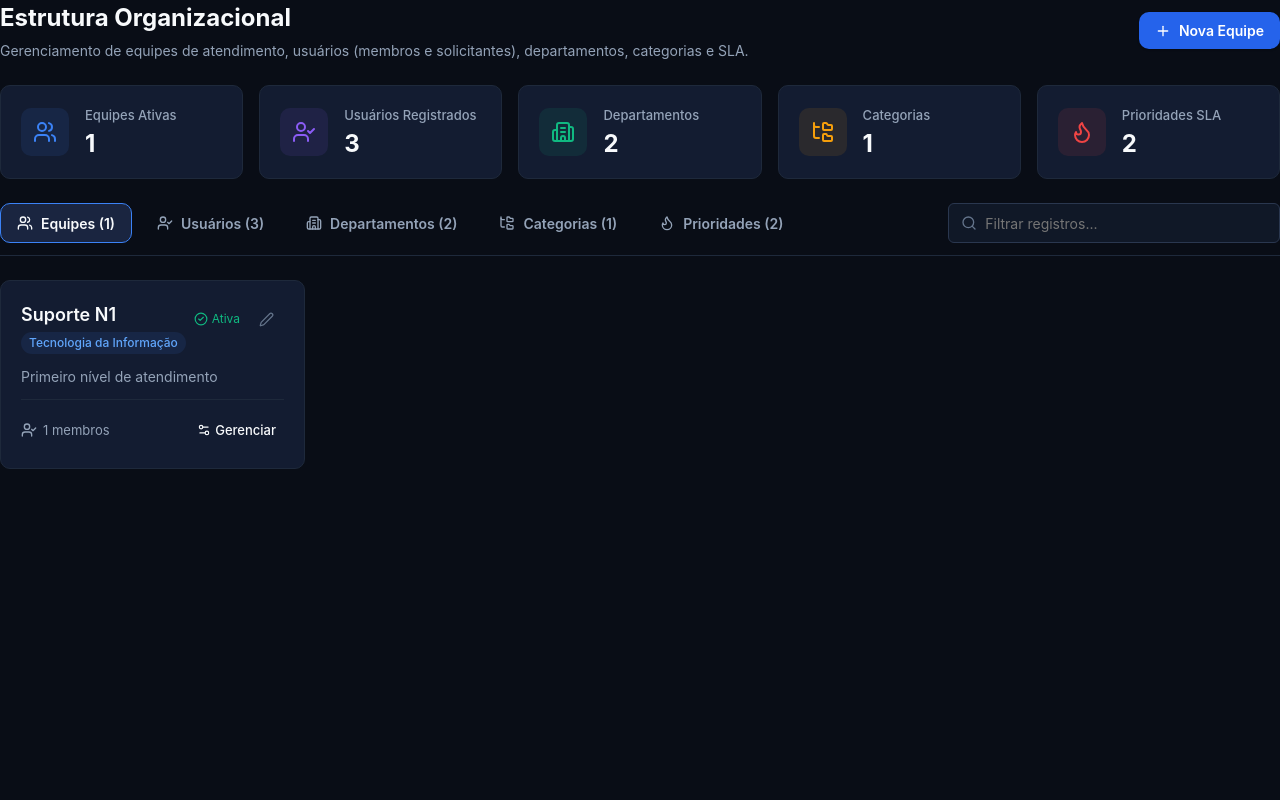
Test: TeamsPage Component › opens user creation modal when clicking Novo Usuário button on users tab
This screenshot has width=1280, height=800.
Click the button "Usuários (3)" at [211, 223], box [140, 203, 281, 243]
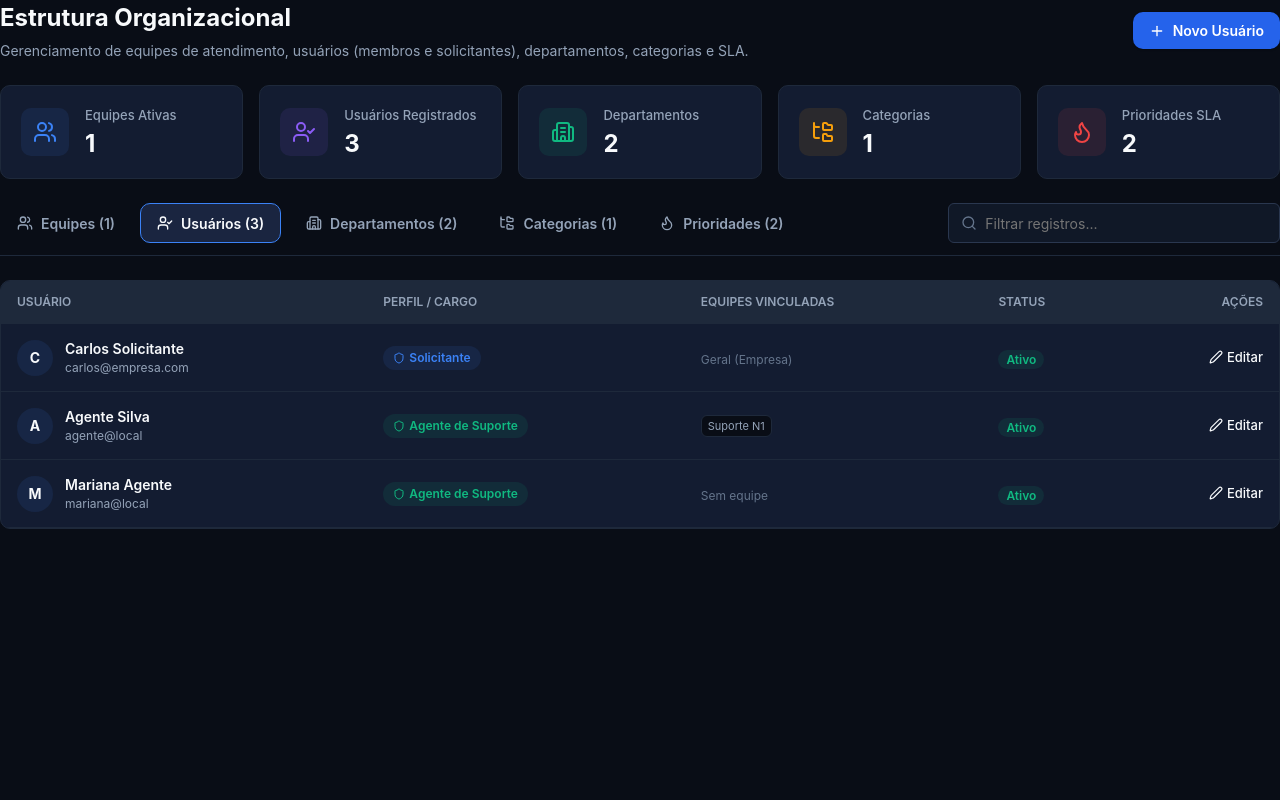
Click the button "Novo Usuário" at [1206, 30], box [1133, 12, 1279, 49]
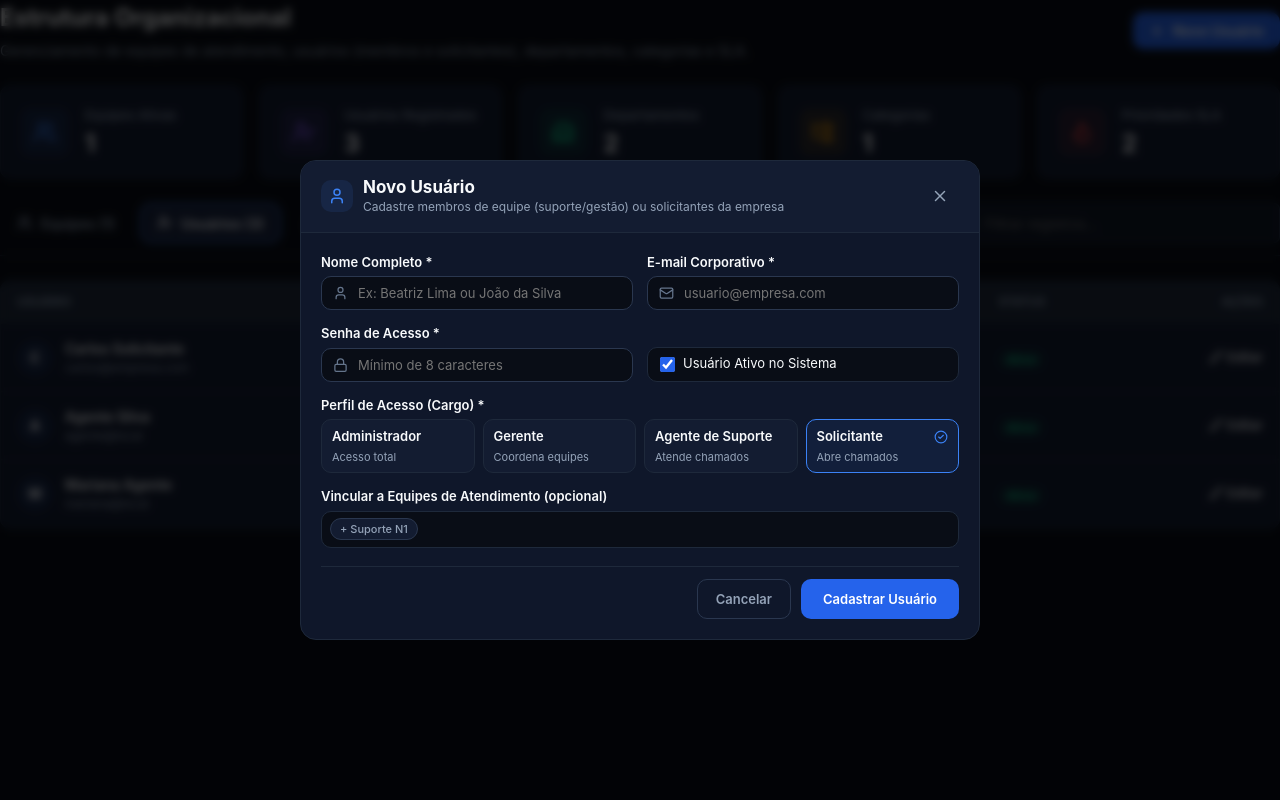
Now the heading "Novo Usuário" is shown, box [363, 177, 475, 197]
Now the field with placeholder "Ex: Beatriz Lima ou João da Silva" is shown, box [321, 276, 633, 310]
